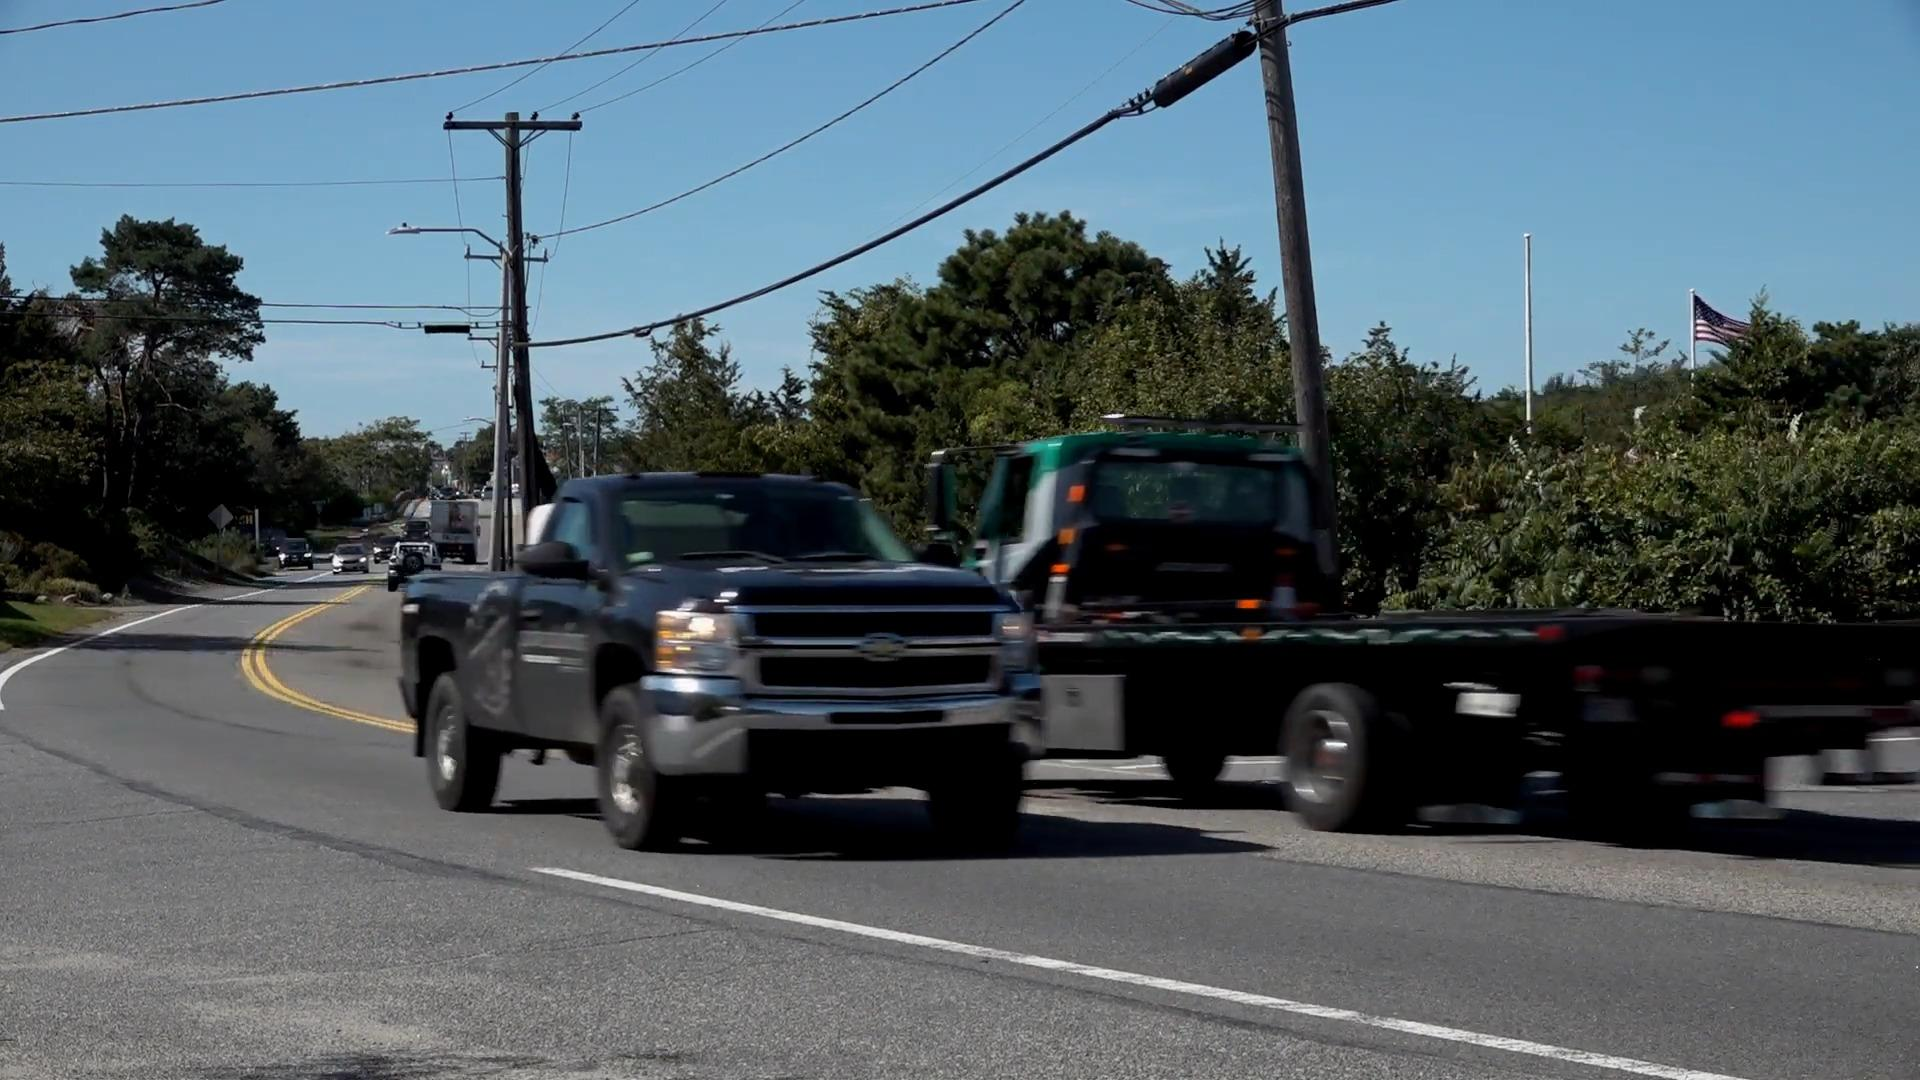pickup: (409, 459, 1040, 855)
truck: (939, 418, 1911, 825)
